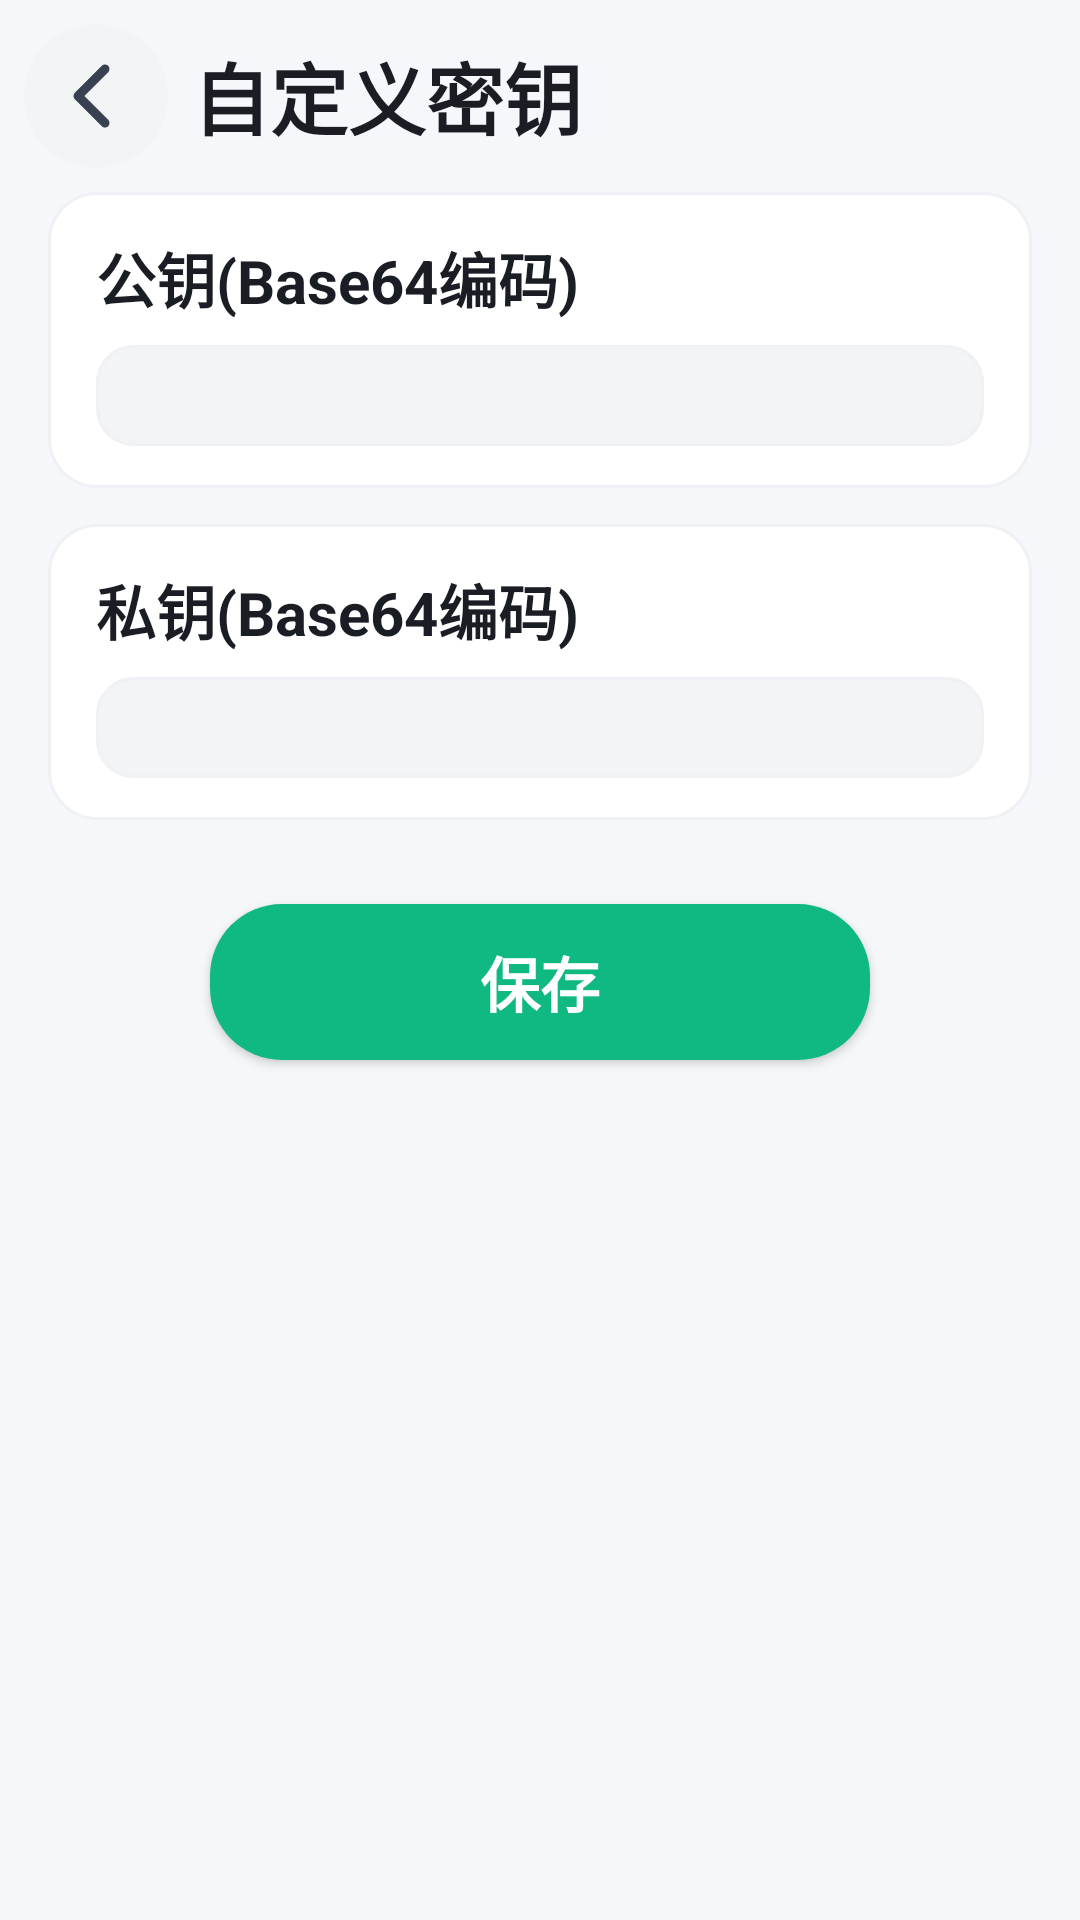

Icons on this 1080px x 1920px Android screen, each with the point to tap as (x=x, y=y):
chevron left: (x=91, y=96)
